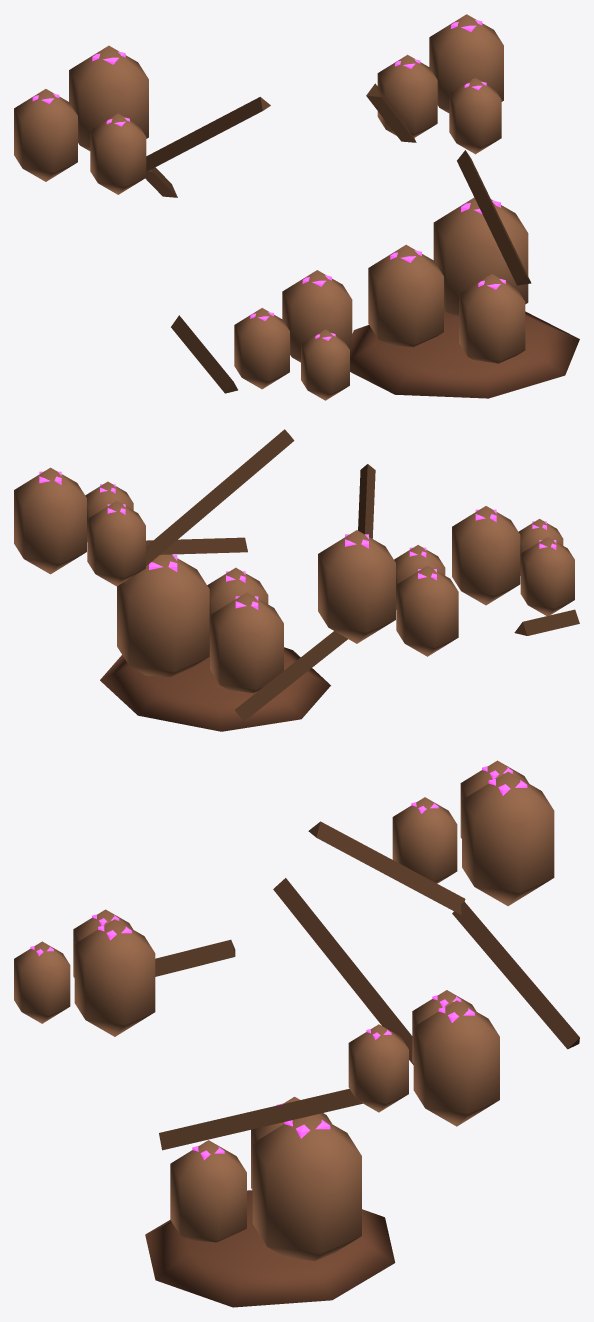
Rendered from overworld-settlement-eggs-town.glb.
3 views of the same model, one above another, from view 1: azimuth 30°, elevation 25°; view 2: azimuth 150°, elevation 25°; view 3: azimuth 270°, elevation 25° (orthographic). The views are drawn at different scales.
Visible parts, largest first — view 1: settlement_eggs; view 2: settlement_eggs; view 3: settlement_eggs.
Part boxes in pixels (x1,y1,x2,y2): settlement_eggs: (14, 14, 579, 400); settlement_eggs: (14, 429, 579, 731); settlement_eggs: (14, 760, 579, 1307).
Size of the model in its own units: 0.3589 by 0.2164 by 0.3288.
